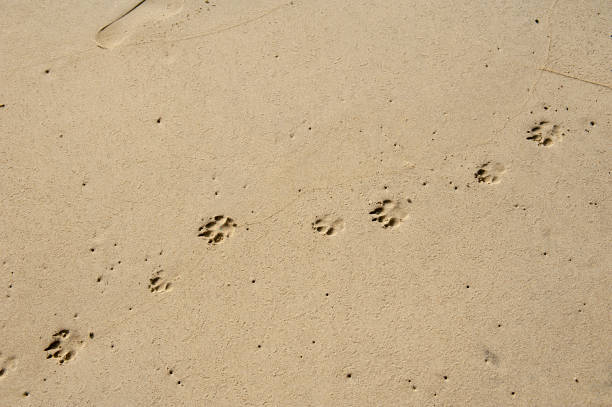animal_footprint: (95, 0, 184, 49), (44, 329, 83, 364), (198, 215, 236, 244), (369, 199, 407, 227), (526, 121, 564, 146), (474, 162, 505, 183), (312, 215, 344, 235), (148, 269, 171, 292), (0, 353, 16, 378)
